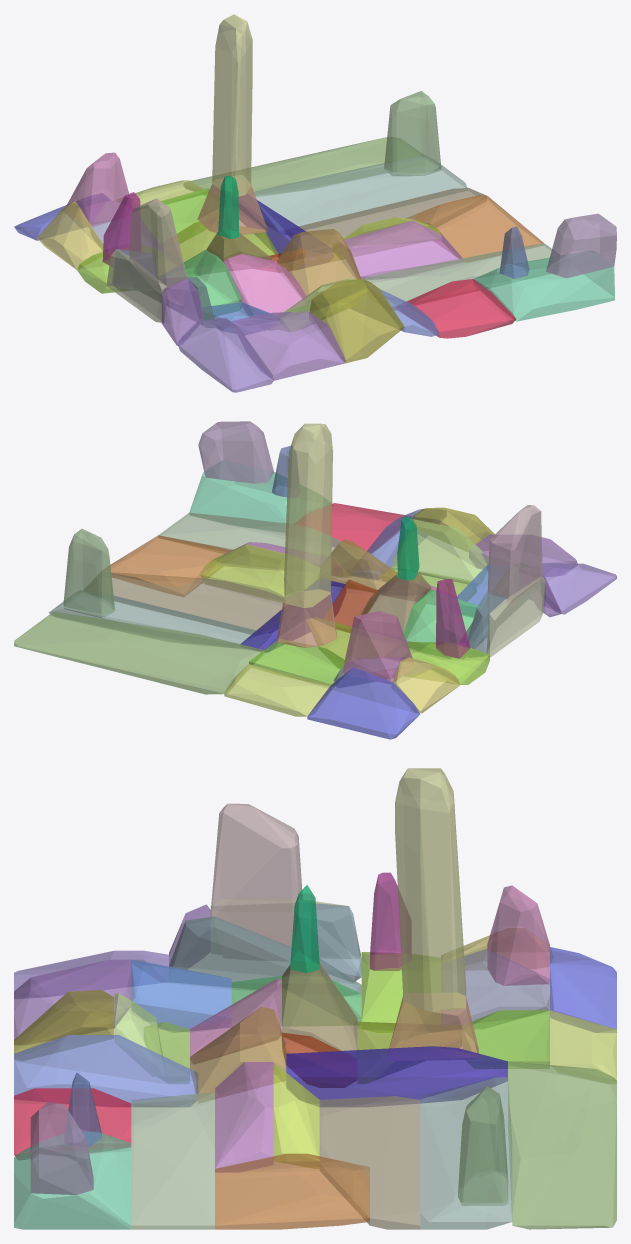
File: convexjanina.dae
The picture shows the model from 3 angles, top to bottom: view 1: azimuth 30°, elevation 25°; view 2: azimuth 150°, elevation 25°; view 3: azimuth 270°, elevation 25°; orthographic projection. The views are drawn at different scales.
Visible parts, largest first — view 1: Plane_ACD_017, Plane_ACD_027, Plane_ACD_005, Plane_ACD_018, Plane_ACD_016, Plane_ACD_010, Plane_ACD_023, Plane_ACD_029, Plane_ACD_038, Plane_ACD_013, Plane_ACD_030, Plane_ACD_019 (+28 smaller); view 2: Plane_ACD_018, Plane_ACD_005, Plane_ACD_030, Plane_ACD_027, Plane_ACD_017, Plane_ACD_016, Plane_ACD_009, Plane_ACD_029, Plane_ACD_039, Plane_ACD_002, Plane_ACD_012, Plane_ACD_028 (+30 smaller); view 3: Plane_ACD_018, Plane_ACD_005, Plane_ACD_017, Plane_ACD_002, Plane_ACD_030, Plane_ACD_016, Plane_ACD_007, Plane_ACD_029, Plane_ACD_006, Plane_ACD_027, Plane_ACD_010, Plane_ACD_031 (+30 smaller).
Part boxes in pixels (left/top/right/bottom): Plane_ACD_017: left=252, top=156, right=467, bottom=234; Plane_ACD_027: left=473, top=251, right=614, bottom=321; Plane_ACD_005: left=212, top=14, right=252, bottom=196; Plane_ACD_018: left=184, top=137, right=422, bottom=196; Plane_ACD_016: left=362, top=243, right=559, bottom=309; Plane_ACD_010: left=231, top=311, right=345, bottom=380; Plane_ACD_023: left=309, top=278, right=404, bottom=363; Plane_ACD_029: left=405, top=195, right=543, bottom=261; Plane_ACD_038: left=339, top=220, right=463, bottom=279; Plane_ACD_013: left=397, top=279, right=516, bottom=338; Plane_ACD_030: left=285, top=187, right=486, bottom=246; Plane_ACD_019: left=177, top=318, right=273, bottom=392; Plane_ACD_018: left=14, top=611, right=263, bottom=694; Plane_ACD_005: left=284, top=423, right=332, bottom=607; Plane_ACD_030: left=84, top=572, right=286, bottom=633; Plane_ACD_027: left=189, top=460, right=333, bottom=531; Plane_ACD_017: left=48, top=591, right=271, bottom=648; Plane_ACD_016: left=158, top=512, right=373, bottom=577; Plane_ACD_009: left=307, top=667, right=420, bottom=739; Plane_ACD_029: left=102, top=535, right=231, bottom=596; Plane_ACD_039: left=200, top=544, right=319, bottom=602; Plane_ACD_002: left=487, top=505, right=542, bottom=624; Plane_ACD_012: left=391, top=519, right=488, bottom=585; Plane_ACD_028: left=198, top=421, right=273, bottom=483; Plane_ACD_018: left=508, top=1061, right=616, bottom=1229; Plane_ACD_005: left=395, top=768, right=466, bottom=1011; Plane_ACD_017: left=420, top=1077, right=512, bottom=1229; Plane_ACD_002: left=210, top=803, right=302, bottom=961; Plane_ACD_030: left=319, top=1096, right=420, bottom=1229; Plane_ACD_016: left=131, top=1092, right=214, bottom=1229; Plane_ACD_007: left=286, top=1046, right=507, bottom=1106; Plane_ACD_029: left=215, top=1153, right=369, bottom=1229; Plane_ACD_006: left=14, top=1035, right=197, bottom=1106; Plane_ACD_027: left=14, top=1132, right=131, bottom=1229; Plane_ACD_010: left=14, top=959, right=131, bottom=1044; Plane_ACD_031: left=169, top=916, right=361, bottom=996.
Bounding box in the file's own units: 14.15 × 13.86 × 7.8.
